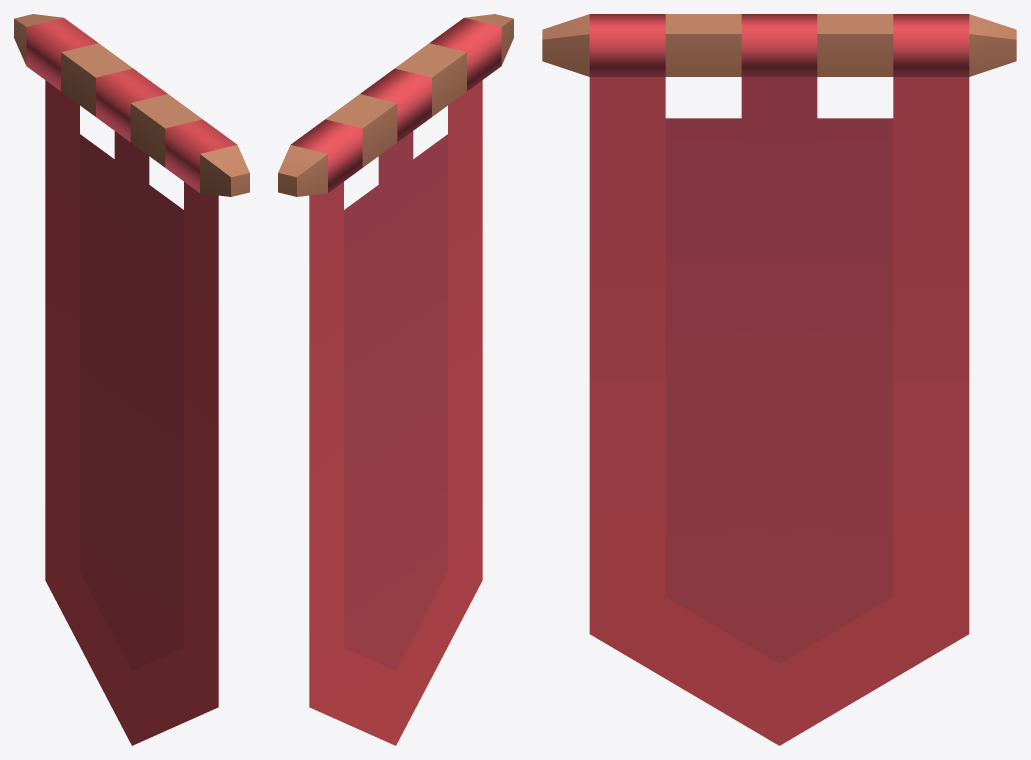
The model's file is banner-red.glb.
3 renders of one model, left to right at view 1: azimuth 30°, elevation 25°; view 2: azimuth 150°, elevation 25°; view 3: azimuth 270°, elevation 25°, orthographic. The views are drawn at different scales.
Parts seen in each view (by area): view 1: banner-red; view 2: banner-red; view 3: banner-red.
Boxes of the visible parts, x1,y1,x2,y2 form: banner-red: [14, 14, 249, 745]; banner-red: [278, 14, 513, 745]; banner-red: [542, 14, 1016, 745].
Size of the model in its own units: 0.1 by 1.68 by 0.9999.
1 material, 1 textured.
